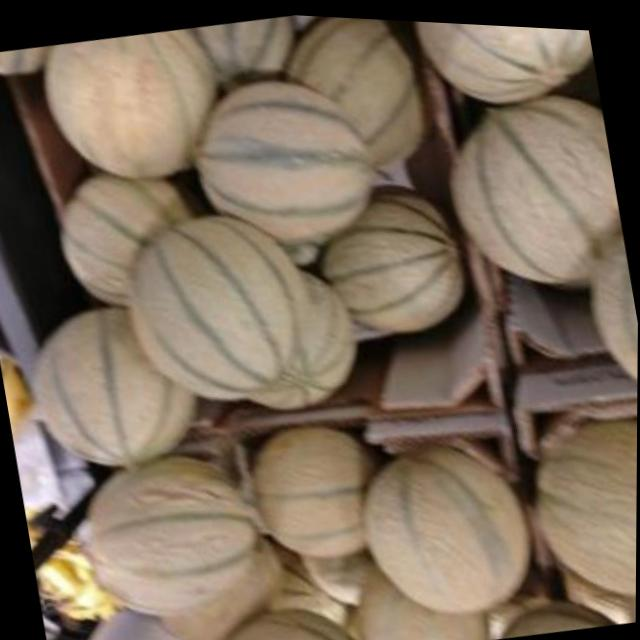Cantaloupe: (436, 72, 633, 311), (180, 56, 393, 269), (110, 199, 321, 413), (19, 284, 215, 490), (34, 15, 237, 200), (70, 441, 273, 626), (351, 428, 541, 620), (307, 172, 483, 338), (516, 399, 638, 606), (392, 16, 599, 118)
